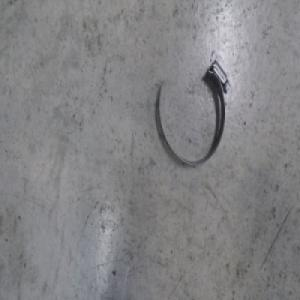AdjustableClamp: (157, 57, 230, 169)
